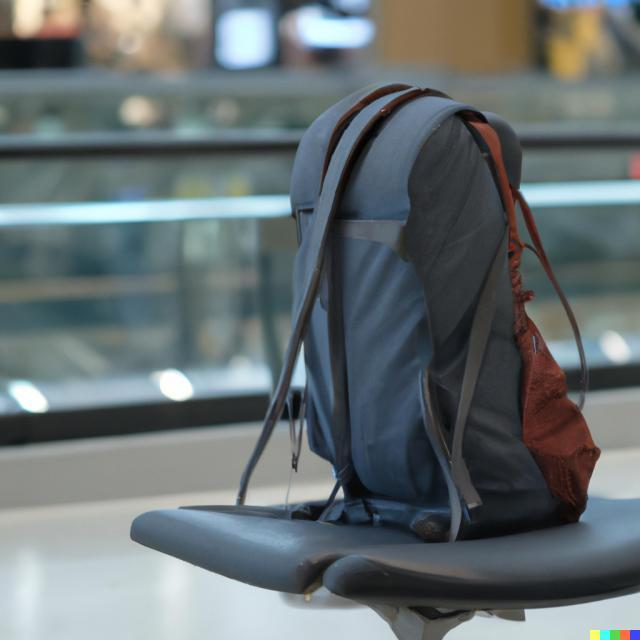Backpacks: (255, 79, 600, 542)
